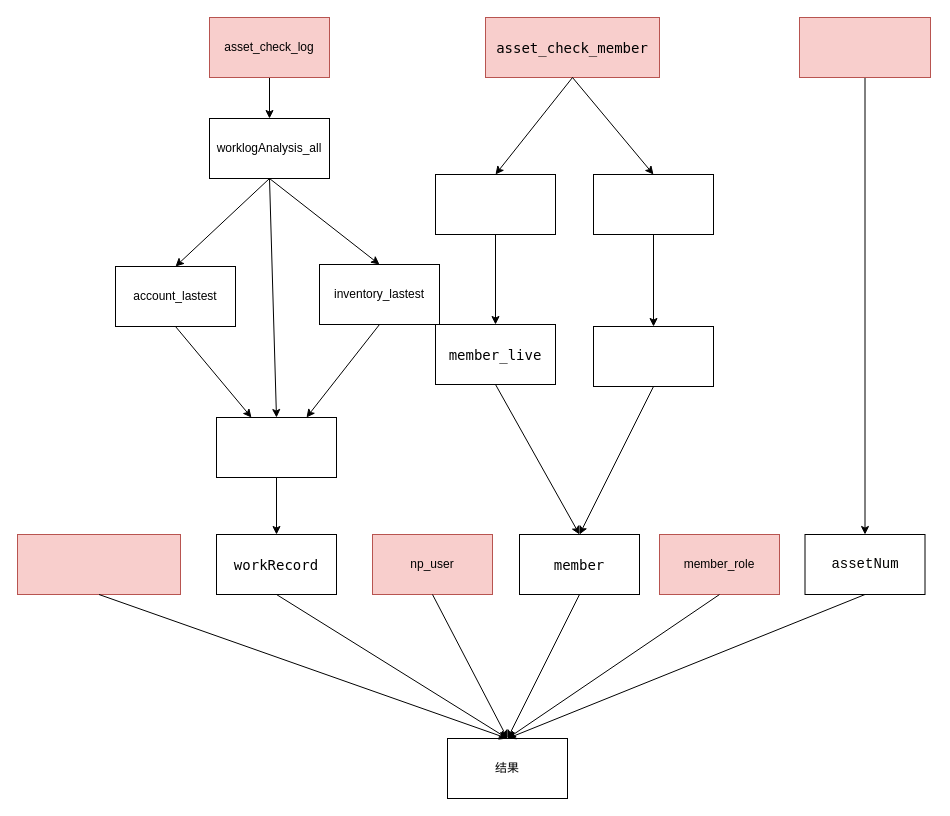
This 950x816 diagram has some shape labels left out. The centre of each missing label's shape, as x and y in pixels:
"acm1" belongs at pixel 495 204.
"acm1_deleted" belongs at pixel 653 204.
"asset_check_project" belongs at pixel 98 564.
"gams_inventory_i" belongs at pixel 864 47.
"member_deleted" belongs at pixel 653 356.
"worklogAnalysis" belongs at pixel 276 447.
